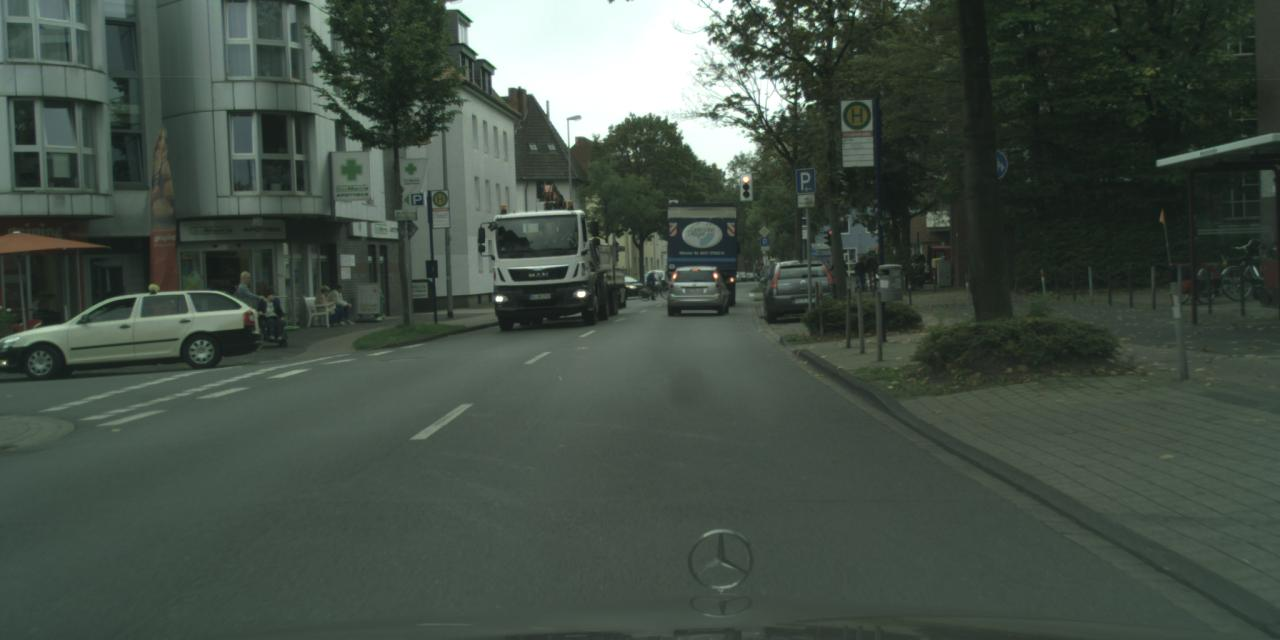ped: (229, 270, 259, 342), (862, 250, 878, 290), (911, 248, 925, 284), (854, 256, 867, 290), (834, 256, 846, 286), (646, 269, 658, 299), (824, 260, 832, 281)
